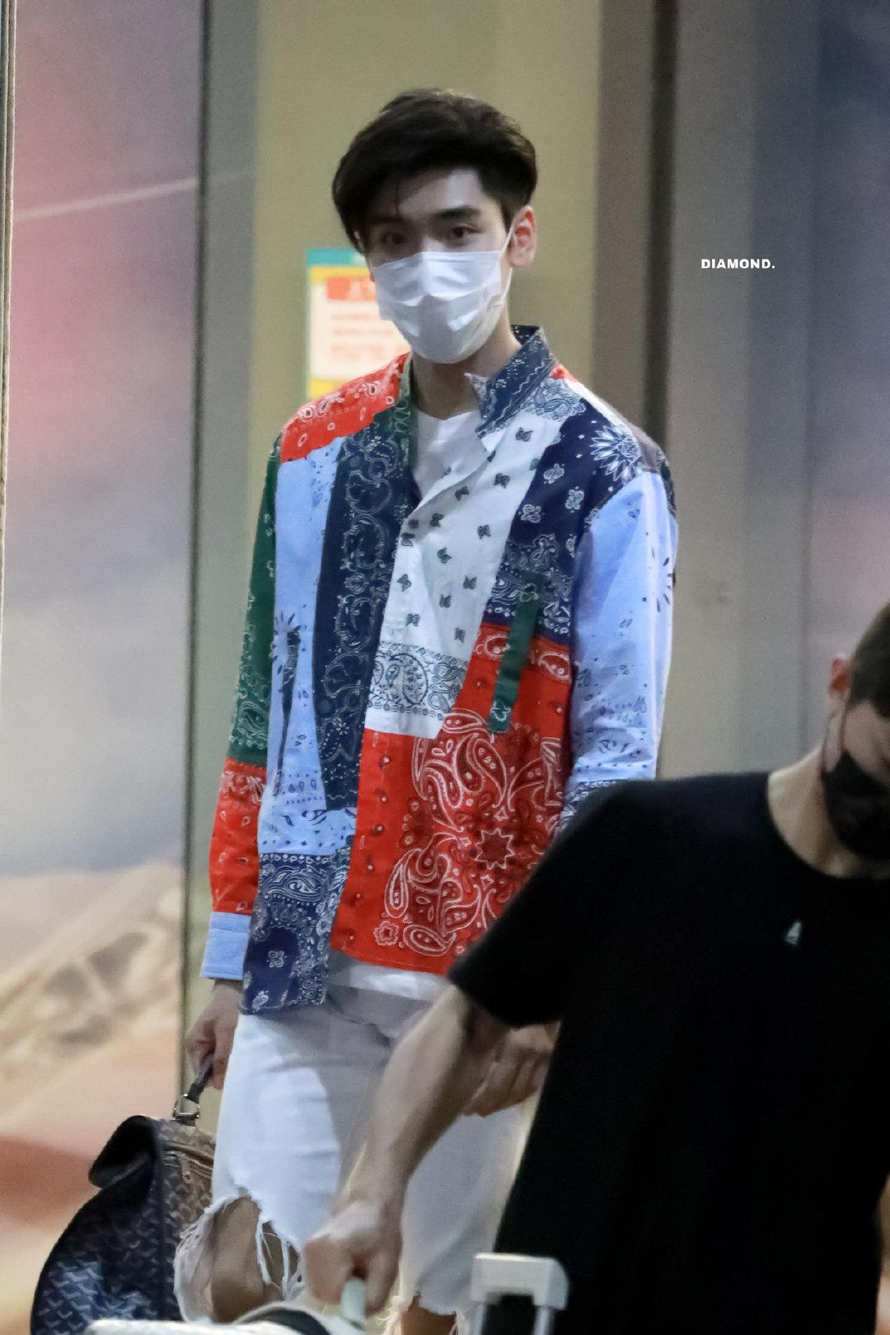OK: (370, 193, 509, 368), (829, 704, 890, 871)
